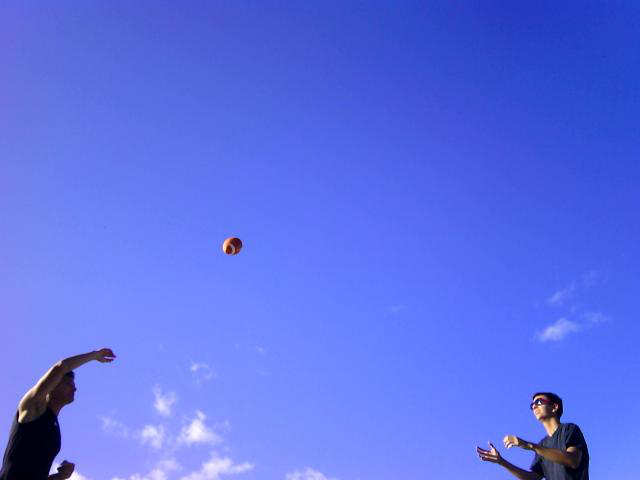football: (221, 235, 244, 257)
